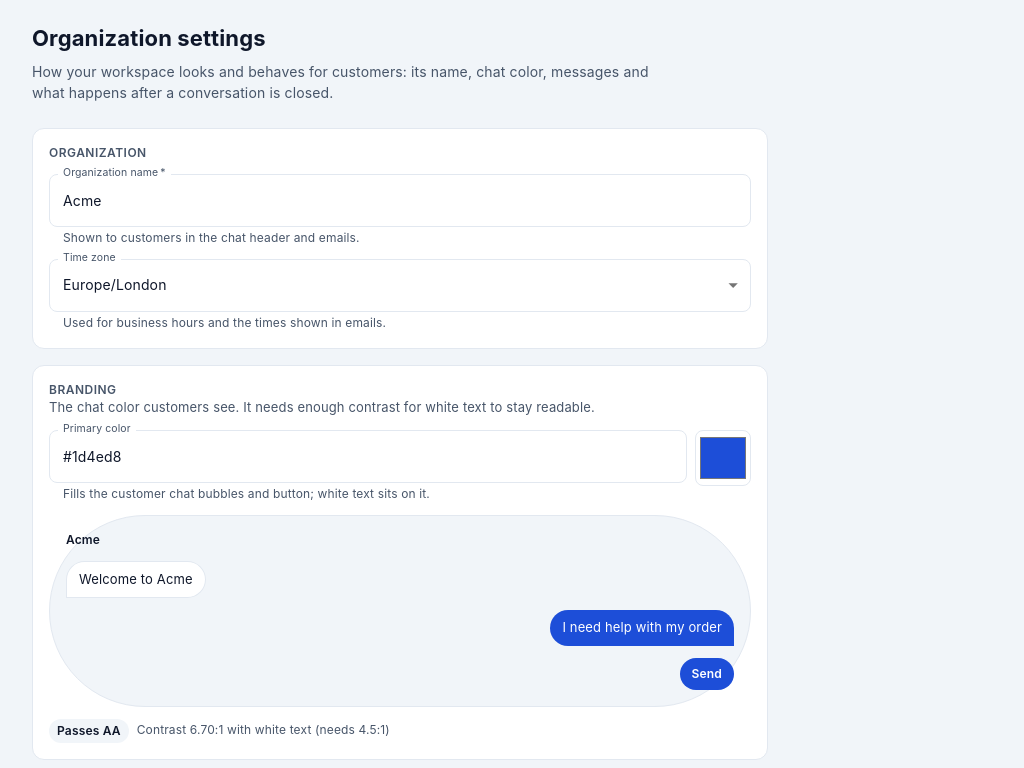
OrganizationSettingsPage › shows a failing color as a visible warning without a second alert announcement
Replace the text in the field labelled "Primary color" with "#aaaaaa" at (368, 456), box [49,430,687,483]
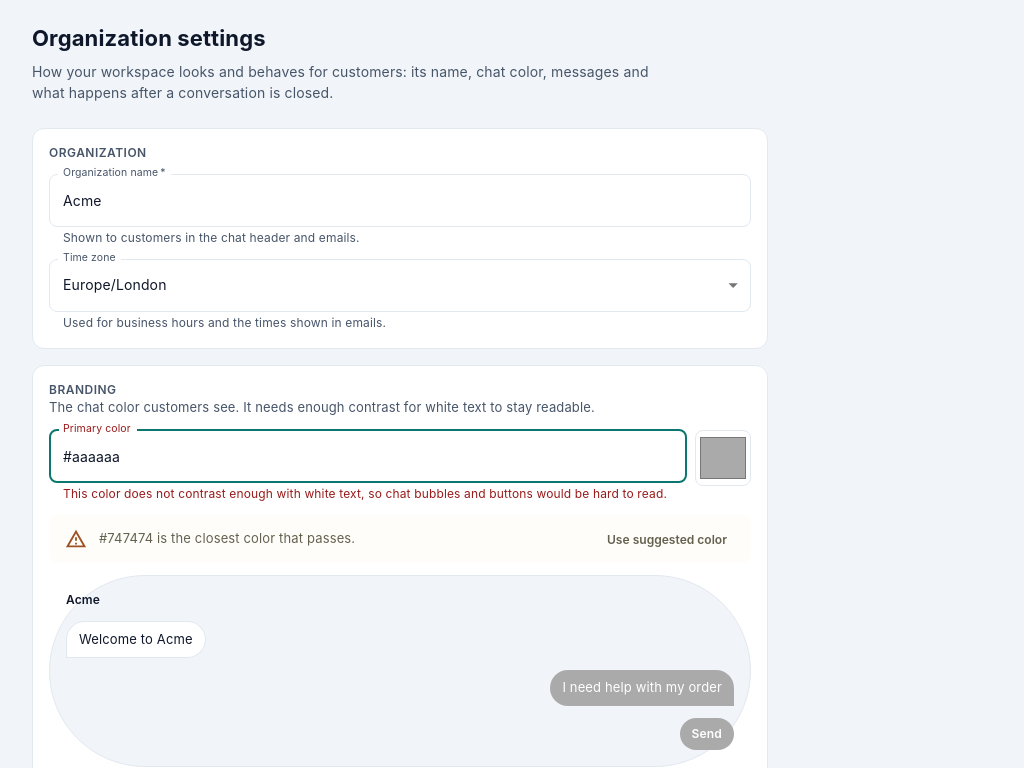
Check: the element that starts with "is the closest color that passes." is shown, box [153,530,355,546]
